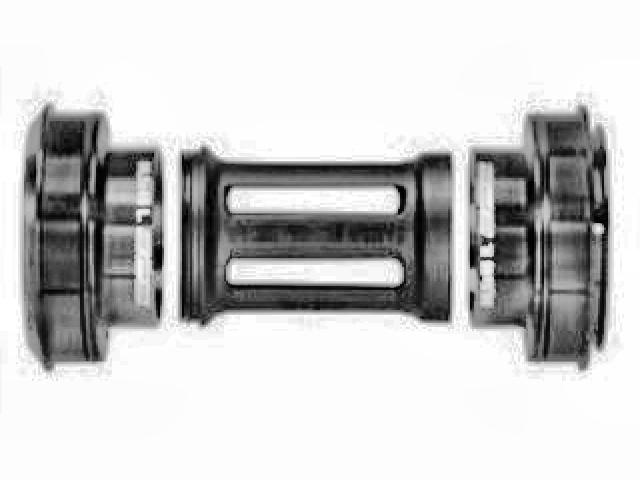bottom_bracket: (16, 102, 612, 373)
